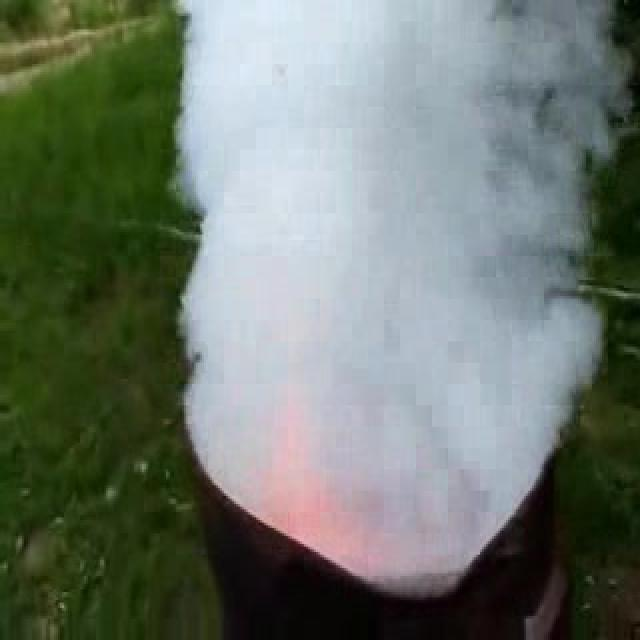Smoke: (164, 0, 634, 597)
